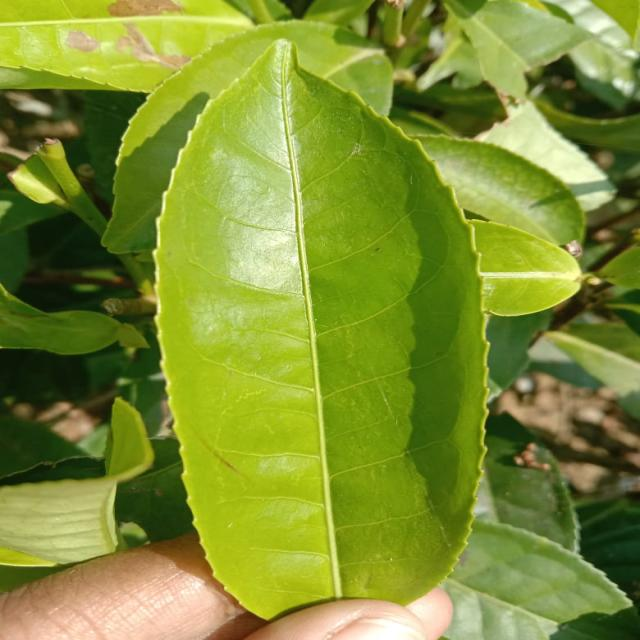Category B 2-4 days: (127, 36, 502, 633)
